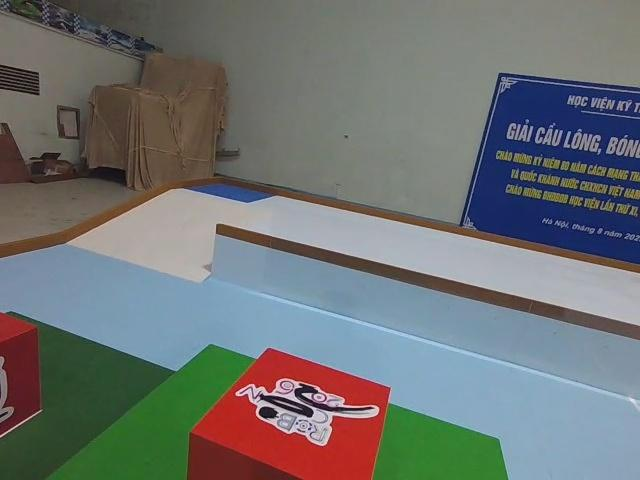R1: (185, 340, 393, 480)
